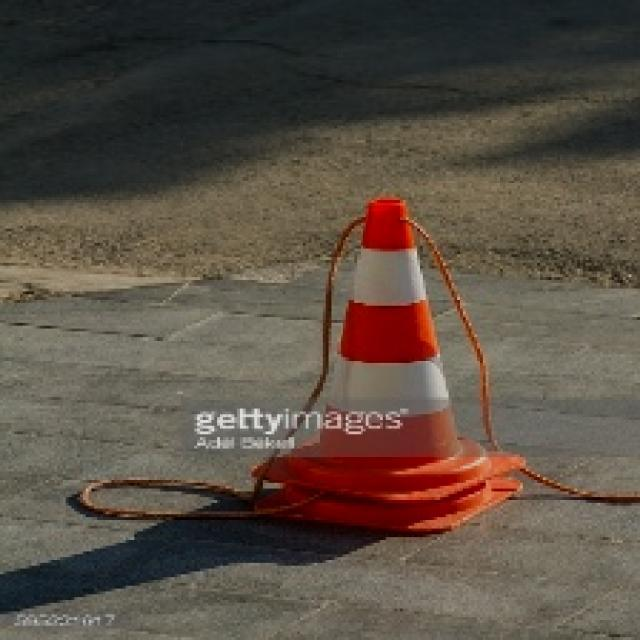traffic cone: (325, 197, 454, 415)
